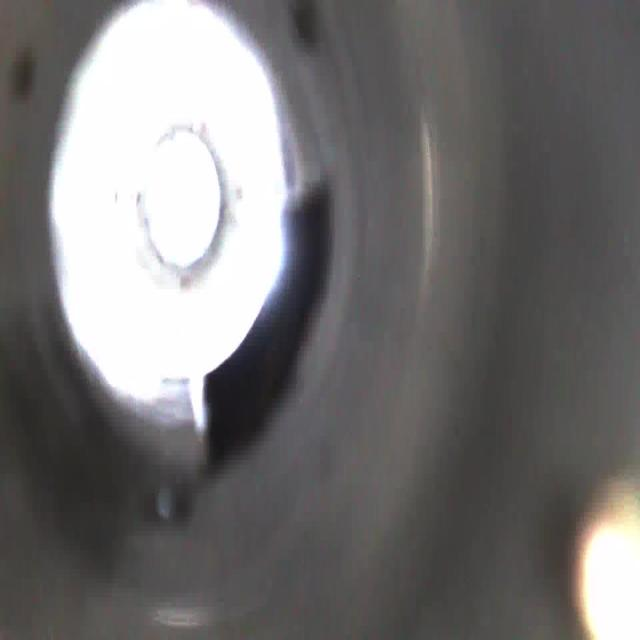hole: (189, 168, 345, 496)
